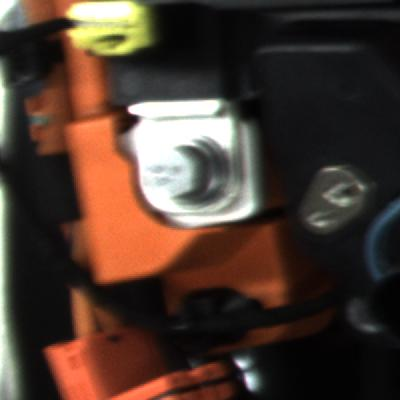nut_b: (144, 130, 242, 207)
